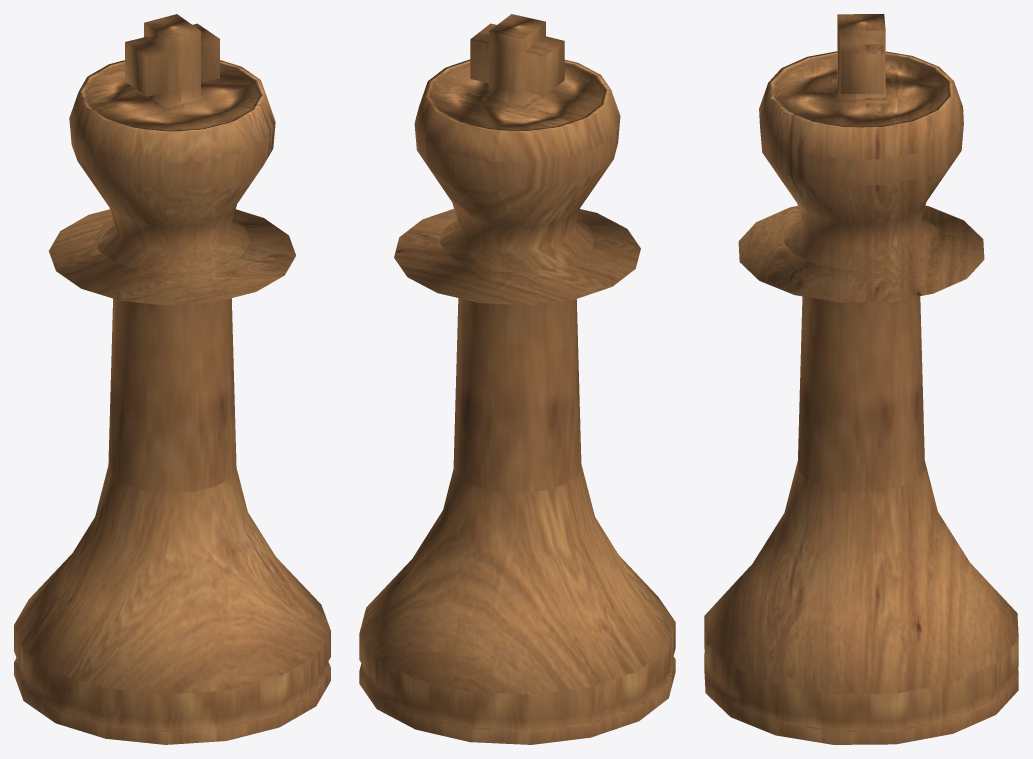
File: queen_b.glb
The picture shows the model from 3 angles, left to right: view 1: azimuth 30°, elevation 25°; view 2: azimuth 150°, elevation 25°; view 3: azimuth 270°, elevation 25°; orthographic projection.
Visible parts, largest first — view 1: Cylinder.016; view 2: Cylinder.016; view 3: Cylinder.016.
Boxes of the visible parts, <box> form: Cylinder.016: <box>14,14,330,744</box>; Cylinder.016: <box>359,14,675,744</box>; Cylinder.016: <box>704,14,1018,744</box>.
Bounding box in the file's own units: 8.85 × 20.36 × 8.85.
1 material, 1 textured.
